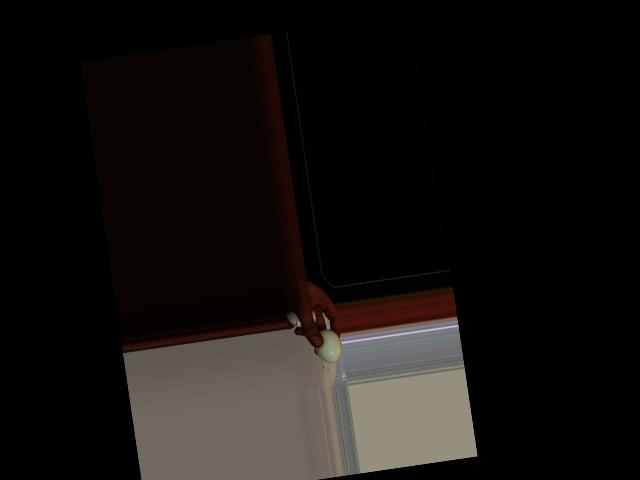egg: (311, 327, 343, 364)
